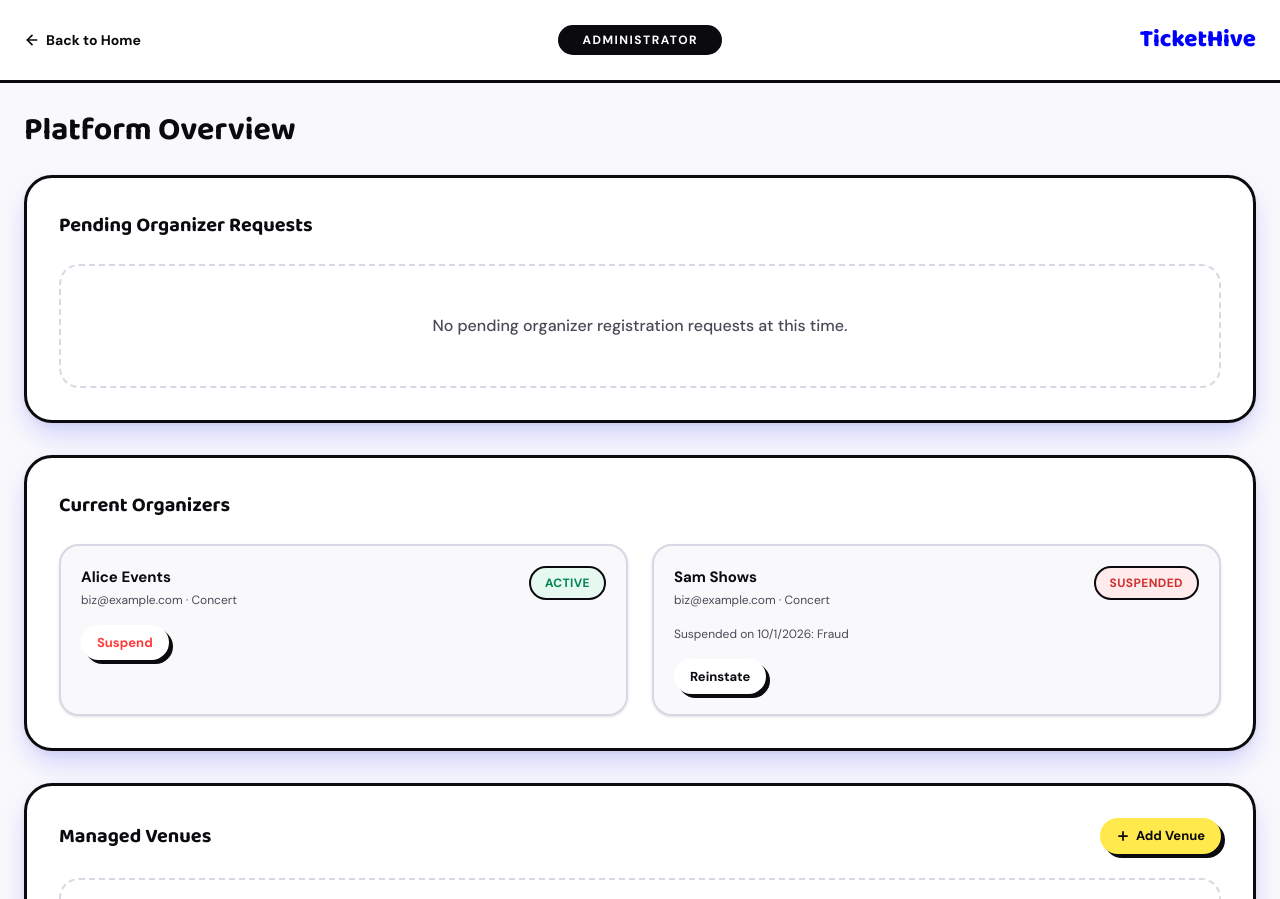
Test: AdminDashboard organizer suspension › shows a reinstate failure in an alert and keeps the organizer suspended
This screenshot has width=1280, height=899.
What coordinates should you click on to do the following:
click the button with aria-label "Reinstate Sam Shows"
I would click on:
 (720, 676)
Its box is top-left (674, 658), bottom-right (766, 694).
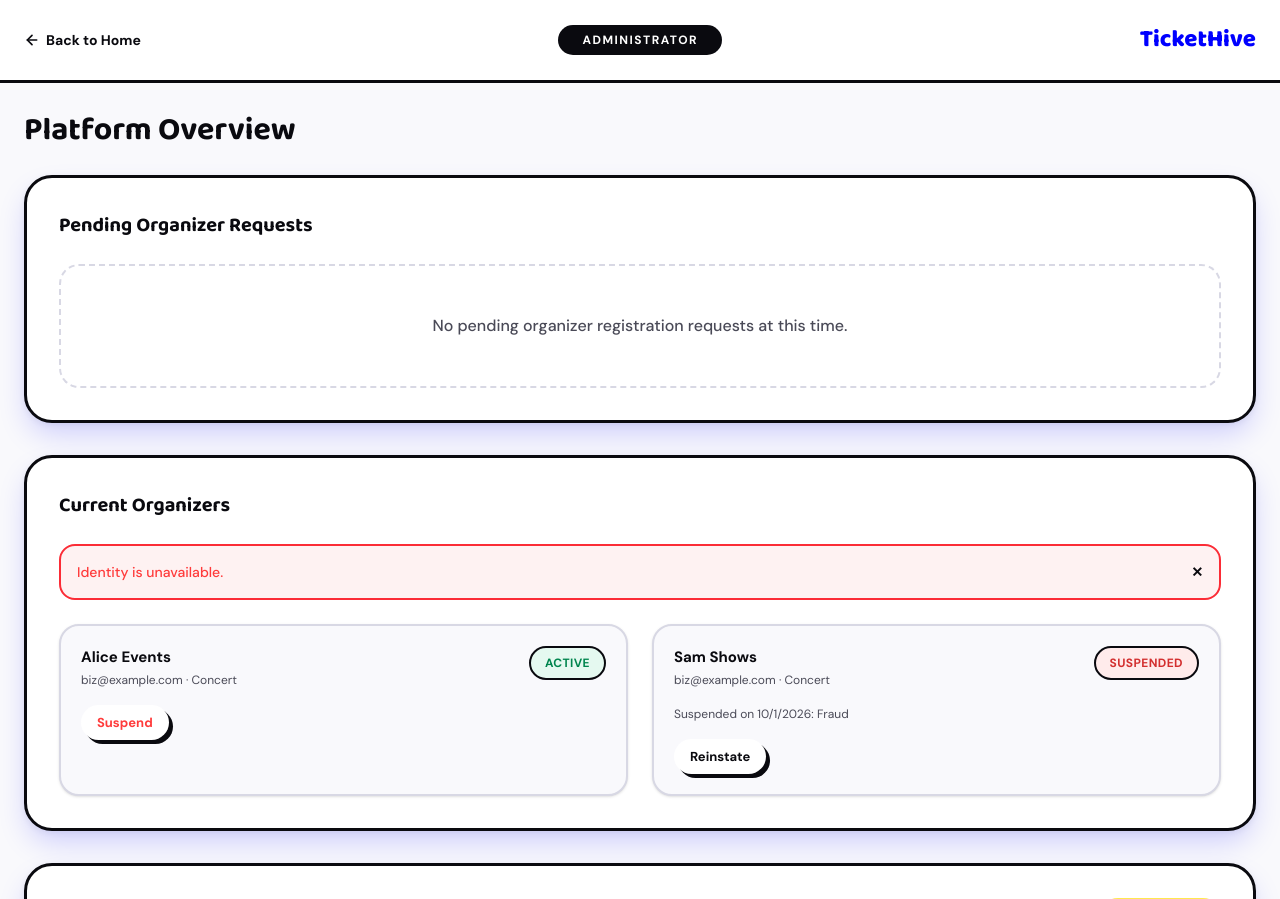
Check: the button with aria-label "Reinstate Sam Shows" is enabled, box top-left (674, 738), bottom-right (766, 774)
Check: the message shows "Identity is unavailable.", box top-left (77, 563), bottom-right (223, 581)
